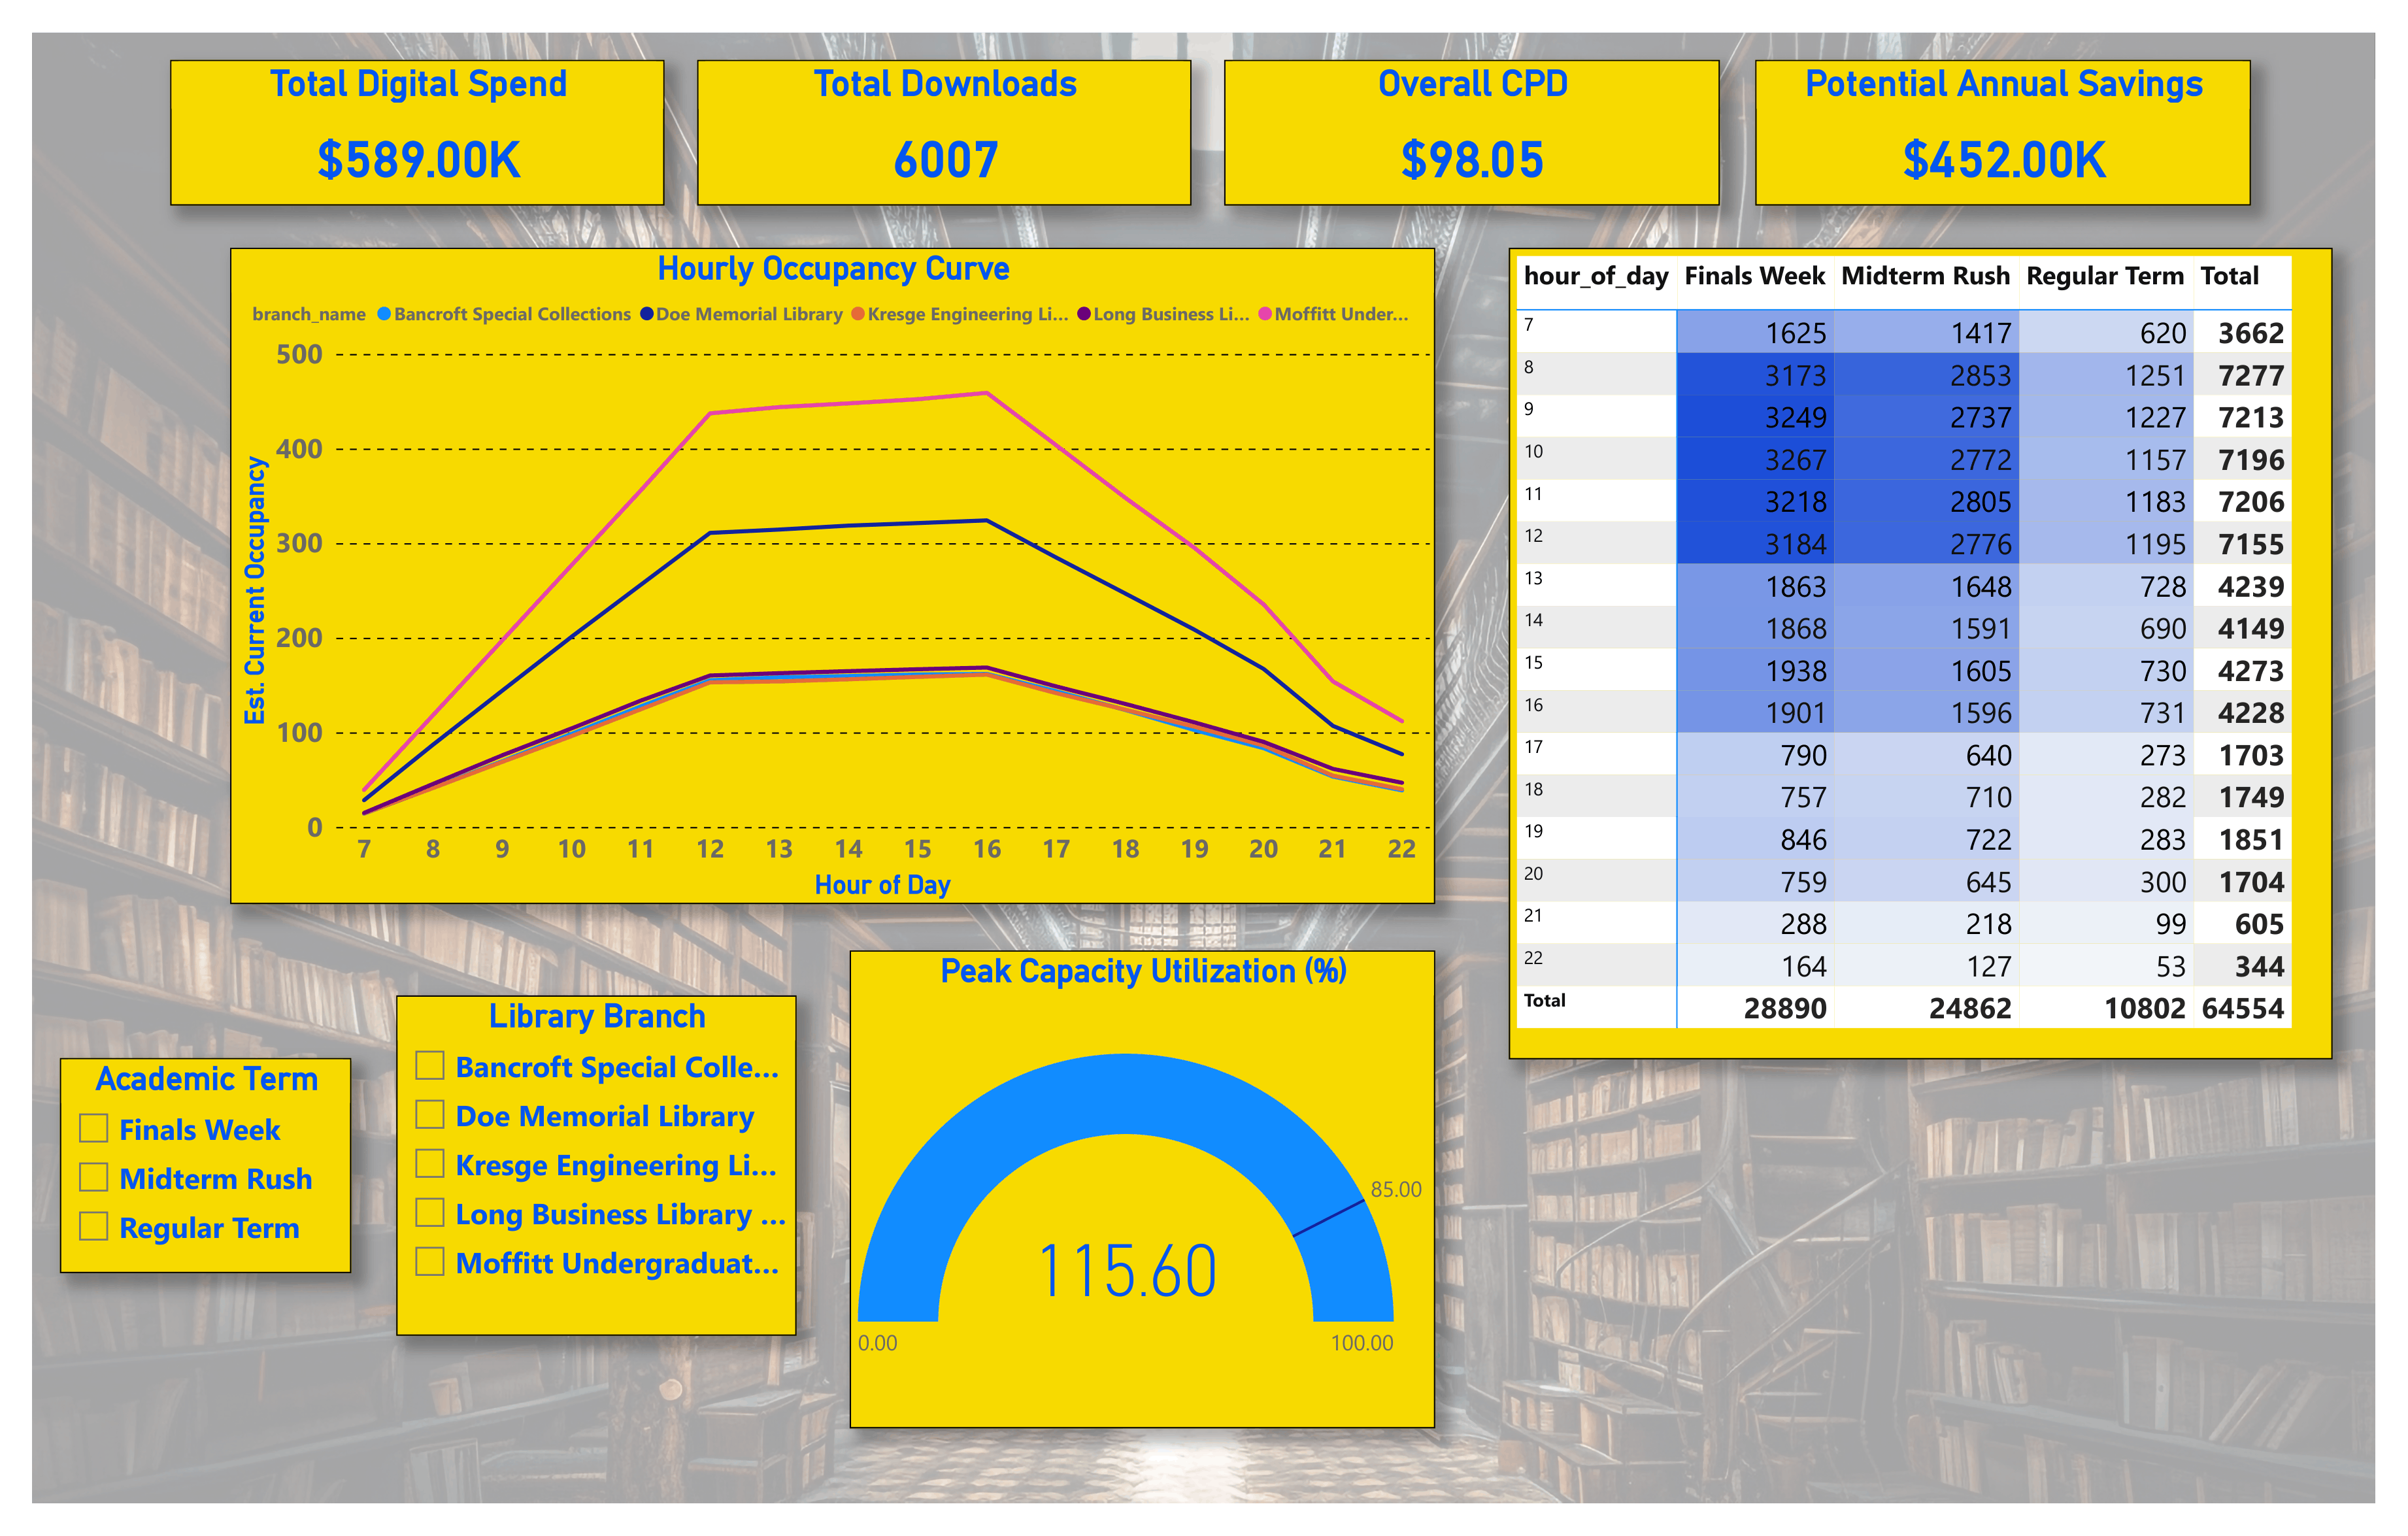

The page's visual inventory and layout, read from the dashboard file:
{"tool":"powerbi","page":{"name":"Page 3: Smart Facilities","canvas":[1720,1080],"ordinal":2},"visuals":[{"type":"card","title":"Total Digital Spend","fields":{"Values":["public view_kpi_publisher_roi.Total Digital Spend"]},"box":[100.8,19.5,363.7,107.3],"z":0},{"type":"card","title":"Total Downloads","fields":{"Values":["public view_kpi_publisher_roi.Total Downloads"]},"box":[487.7,19.5,363.7,107.3],"z":1000},{"type":"card","title":"Overall CPD","fields":{"Values":["public view_kpi_publisher_roi.Overall CPD"]},"box":[875.4,19.5,363.7,107.3],"z":2000},{"type":"card","title":"Potential Annual Savings","fields":{"Values":["public view_kpi_publisher_roi.Potential Annual Savings"]},"box":[1265.3,19.5,363.7,107.3],"z":3000},{"type":"slicer","title":"Library Branch","fields":{"Values":["public dim_branch.branch_name"]},"box":[267.3,706.9,293.5,249.7],"z":4000},{"type":"lineChart","title":"Hourly Occupancy Curve","fields":{"Y":["Avg(public view_kpi_hourly_occupancy.estimated_current_occupancy)"],"Category":["public view_kpi_hourly_occupancy.hour_of_day"],"Series":["public view_kpi_hourly_occupancy.branch_name"]},"box":[144.6,157.7,885,481.9],"z":5000},{"type":"slicer","title":"Academic Term","fields":{"Values":["public view_kpi_hourly_occupancy.academic_term_phase"]},"box":[19.7,752.9,214.7,157.7],"z":6000},{"type":"gauge","title":"Peak Capacity Utilization (%)","fields":{"Y":["Max(public view_kpi_hourly_occupancy.capacity_utilization_pct)"]},"box":[600.2,674,429.4,350.5],"z":7000},{"type":"pivotTable","fields":{"Rows":["public view_kpi_hourly_occupancy.hour_of_day"],"Columns":["public view_kpi_hourly_occupancy.academic_term_phase"],"Values":["Sum(public view_kpi_hourly_occupancy.total_entries)"]},"box":[1084.4,157.7,604.6,595.9],"z":8000}]}

Visuals, with their boxes in screenshot pixels (x1, y1, x2, y2):
"Total Digital Spend" card: select_region(146, 52, 648, 200)
"Total Downloads" card: select_region(680, 52, 1182, 200)
"Overall CPD" card: select_region(1215, 52, 1717, 200)
"Potential Annual Savings" card: select_region(1753, 52, 2255, 200)
"Library Branch" slicer: select_region(375, 1001, 780, 1346)
"Hourly Occupancy Curve" lineChart: select_region(206, 242, 1428, 908)
"Academic Term" slicer: select_region(33, 1065, 330, 1282)
"Peak Capacity Utilization (%)" gauge: select_region(835, 956, 1428, 1439)
pivotTable - public view_kpi_hourly_occupancy.hour_of_day x public view_kpi_hourly_occupancy.academic_term_phase: select_region(1503, 242, 2338, 1065)
